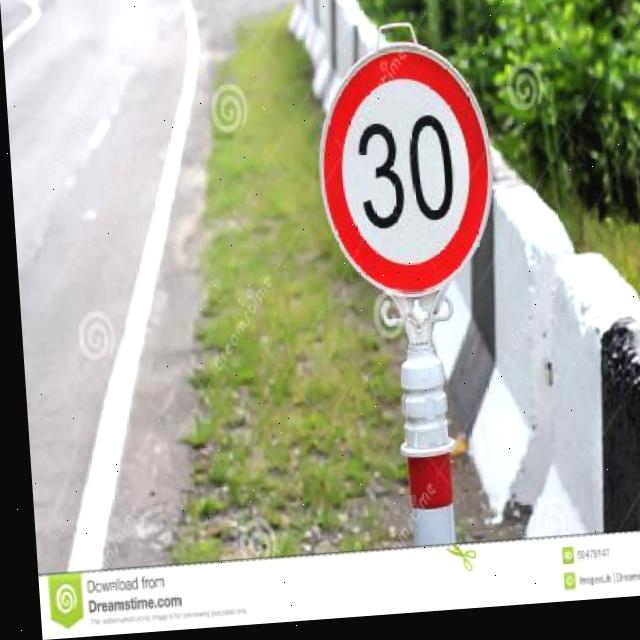Speed limit 30: (308, 41, 498, 310)
